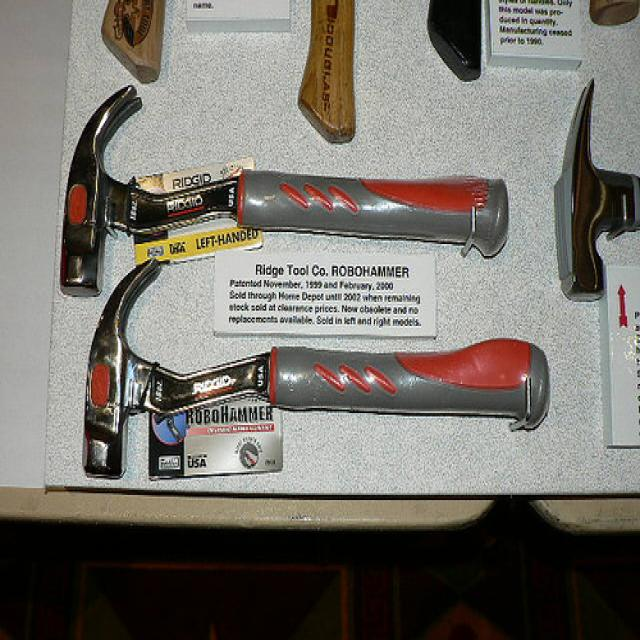hammer: (70, 265, 556, 527), (50, 70, 540, 286)
